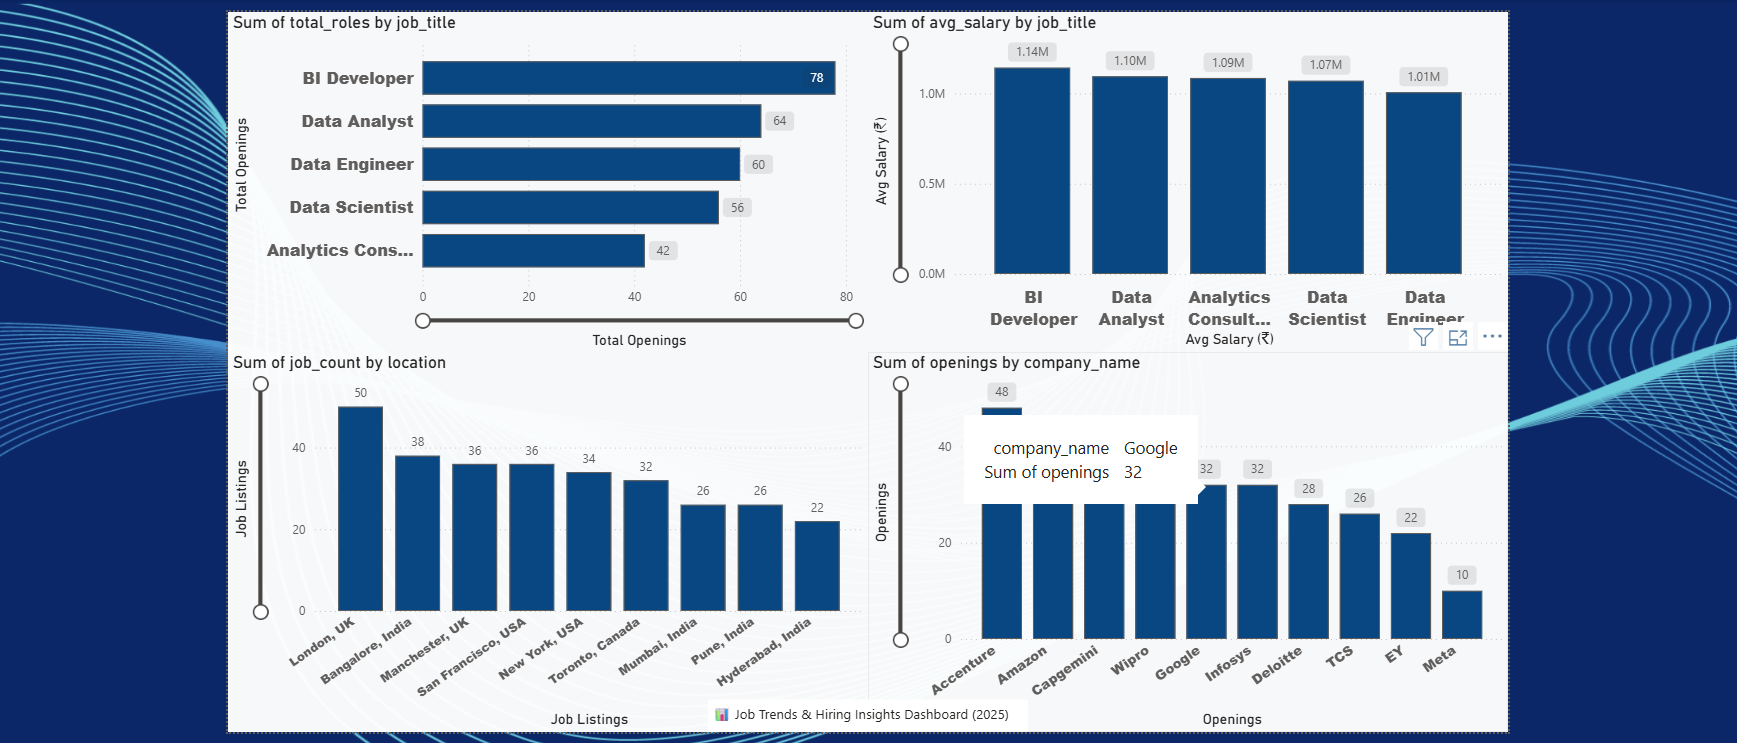

The dashboard page shown, as its layout file describes it:
{"tool":"powerbi","page":{"name":"Page 1","canvas":[1280,720],"ordinal":0},"visuals":[{"type":"barChart","fields":{"Category":["job_count_by_role.job_title"],"Y":["Sum(job_count_by_role.total_roles)"]},"box":[0,0,640,340],"z":0},{"type":"clusteredColumnChart","fields":{"Category":["job_count_by_location.location"],"Y":["Sum(job_count_by_location.job_count)"]},"box":[0,340,640,380],"z":1},{"type":"clusteredColumnChart","fields":{"Y":["Sum(avg_salary_by_role.avg_salary)"],"Category":["avg_salary_by_role.job_title"]},"box":[640,0,640,340],"z":2},{"type":"clusteredColumnChart","fields":{"Category":["roles_by_company.company_name"],"Y":["Sum(roles_by_company.openings)"]},"box":[640,340,640,380],"z":3},{"type":"textbox","box":[480,688,320,32],"z":4}]}

Visuals, with their boxes on the page's 1280x720 design canvas (x1, y1, x2, y2). These are canvas units, not pixel positions in the 1737x743 screenshot, which may show the page scaled, cropped or inside an application window:
barChart - job_count_by_role.job_title x Sum(job_count_by_role.total_roles): (0, 0, 640, 340)
clusteredColumnChart - job_count_by_location.location x Sum(job_count_by_location.job_count): (0, 340, 640, 720)
clusteredColumnChart - Sum(avg_salary_by_role.avg_salary) x avg_salary_by_role.job_title: (640, 0, 1280, 340)
clusteredColumnChart - roles_by_company.company_name x Sum(roles_by_company.openings): (640, 340, 1280, 720)
textbox: (480, 688, 800, 720)
